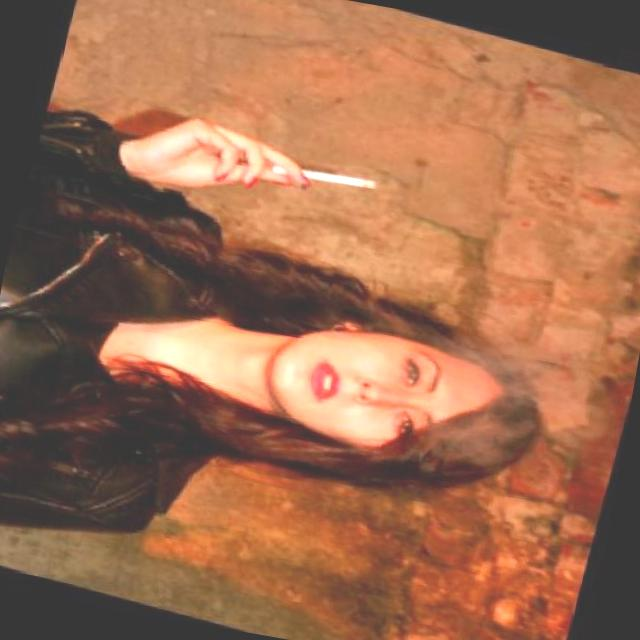smoke: (126, 101, 384, 223)
